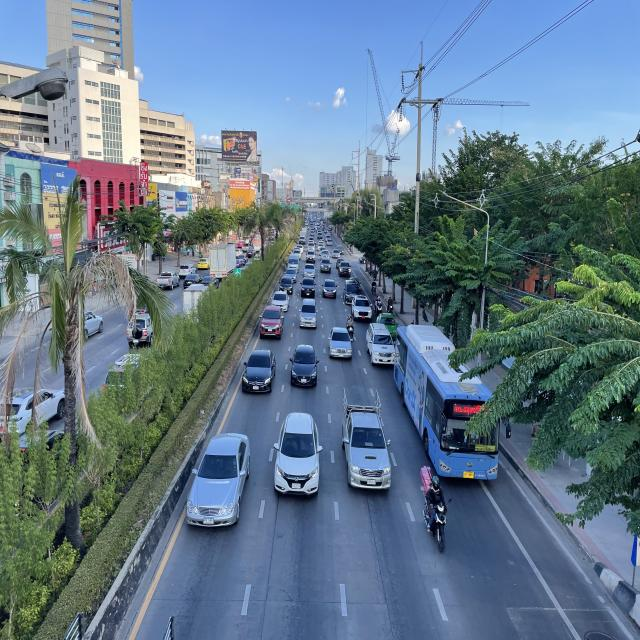bike: (420, 464, 451, 555), (346, 313, 355, 338), (374, 295, 383, 318), (387, 295, 394, 316), (371, 278, 377, 296)
bus: (393, 324, 502, 482)
car: (184, 431, 252, 531), (272, 412, 324, 499), (239, 346, 277, 396), (288, 344, 320, 389), (259, 305, 285, 342), (328, 326, 353, 363), (299, 297, 319, 331), (351, 296, 373, 322), (270, 290, 290, 312)
truck: (340, 386, 393, 493), (366, 323, 397, 367)
